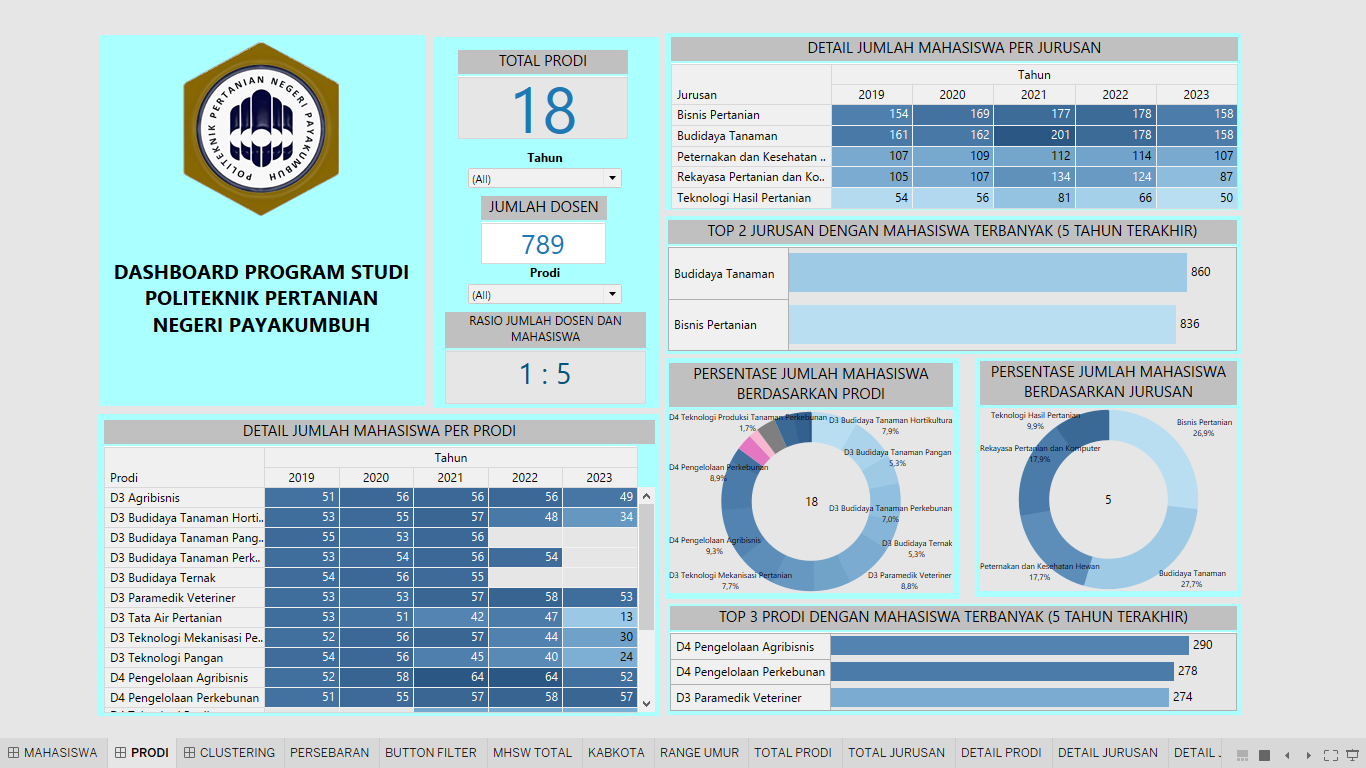

This screenshot's page, from the dashboard's own definition file:
{"tool":"tableau","page":{"name":"PRODI","canvas":[1200,700],"ordinal":2},"visuals":[{"type":"blank","box":[582,14,577,177]},{"type":"blank","box":[17,16,325,371]},{"type":"blank","box":[351,18,225,371]},{"type":"worksheet","title":"DETAIL JURUSAN (2)","mark":"Square","rows":["jurusan"],"cols":["tahun"],"box":[588,18,567,172]},{"type":"image","param":"C:/Users/HP/Downloads/01.png","box":[26,23,305,174]},{"type":"worksheet","title":"TOTAL PRODI","mark":"Automatic","box":[375,31,170,89]},{"type":"filter","title":"TOTAL PRODI","param":"[federated.152qc3819ipgjl1503bot03x0qiw].[none:tahun:ok]","box":[382,130,160,41]},{"type":"worksheet","title":"JML DOSEN","mark":"Automatic","box":[398,177,126,68]},{"type":"blank","box":[582,197,576,138]},{"type":"worksheet","title":"TOP 2 JURUSAN","mark":"Automatic","rows":["jurusan"],"cols":["fact_maba_21E5B4D225D3407183BB4035FF25C909"],"box":[585,201,569,131]},{"type":"text","box":[21,204,315,149]},{"type":"filter","title":"RATIO","param":"[federated.152qc3819ipgjl1503bot03x0qiw].[none:prodi:nk]","box":[382,245,160,43]},{"type":"worksheet","title":"RATIO","mark":"Area","box":[362,293,201,92]},{"type":"blank","box":[583,339,293,241]},{"type":"blank","box":[893,339,265,239]},{"type":"worksheet","title":"DETAIL JURUSAN","mark":"Pie","rows":["Calculation_531424756810428421","Calculation_531424756810473479"],"box":[897,342,257,230]},{"type":"worksheet","title":"DETAIL PRODI","mark":"Pie","rows":["Calculation_531424756810428421","Calculation_531424756810473479"],"box":[586,344,284,230]},{"type":"blank","box":[15,395,562,302]},{"type":"worksheet","title":"DETAIL PRODI(2)","mark":"Square","rows":["prodi"],"cols":["tahun"],"box":[21,401,551,293]},{"type":"blank","box":[584,585,574,111]},{"type":"worksheet","title":"TOP 3 PRODI","mark":"Automatic","rows":["prodi"],"cols":["fact_maba_21E5B4D225D3407183BB4035FF25C909"],"box":[587,587,567,105]}]}

Visuals, with their boxes on the page's 1200x700 design canvas (x1, y1, x2, y2). These are canvas units, not pixel positions in the 1366x768 screenshot, which may show the page scaled, cropped or inside an application window:
blank: [left=582, top=14, right=1159, bottom=191]
blank: [left=17, top=16, right=342, bottom=387]
blank: [left=351, top=18, right=576, bottom=389]
"DETAIL JURUSAN (2)" worksheet (Square marks): [left=588, top=18, right=1155, bottom=190]
image: [left=26, top=23, right=331, bottom=197]
"TOTAL PRODI" worksheet: [left=375, top=31, right=545, bottom=120]
"TOTAL PRODI" filter: [left=382, top=130, right=542, bottom=171]
"JML DOSEN" worksheet: [left=398, top=177, right=524, bottom=245]
blank: [left=582, top=197, right=1158, bottom=335]
"TOP 2 JURUSAN" worksheet: [left=585, top=201, right=1154, bottom=332]
text: [left=21, top=204, right=336, bottom=353]
"RATIO" filter: [left=382, top=245, right=542, bottom=288]
"RATIO" worksheet (Area marks): [left=362, top=293, right=563, bottom=385]
blank: [left=583, top=339, right=876, bottom=580]
blank: [left=893, top=339, right=1158, bottom=578]
"DETAIL JURUSAN" worksheet (Pie marks): [left=897, top=342, right=1154, bottom=572]
"DETAIL PRODI" worksheet (Pie marks): [left=586, top=344, right=870, bottom=574]
blank: [left=15, top=395, right=577, bottom=697]
"DETAIL PRODI(2)" worksheet (Square marks): [left=21, top=401, right=572, bottom=694]
blank: [left=584, top=585, right=1158, bottom=696]
"TOP 3 PRODI" worksheet: [left=587, top=587, right=1154, bottom=692]
